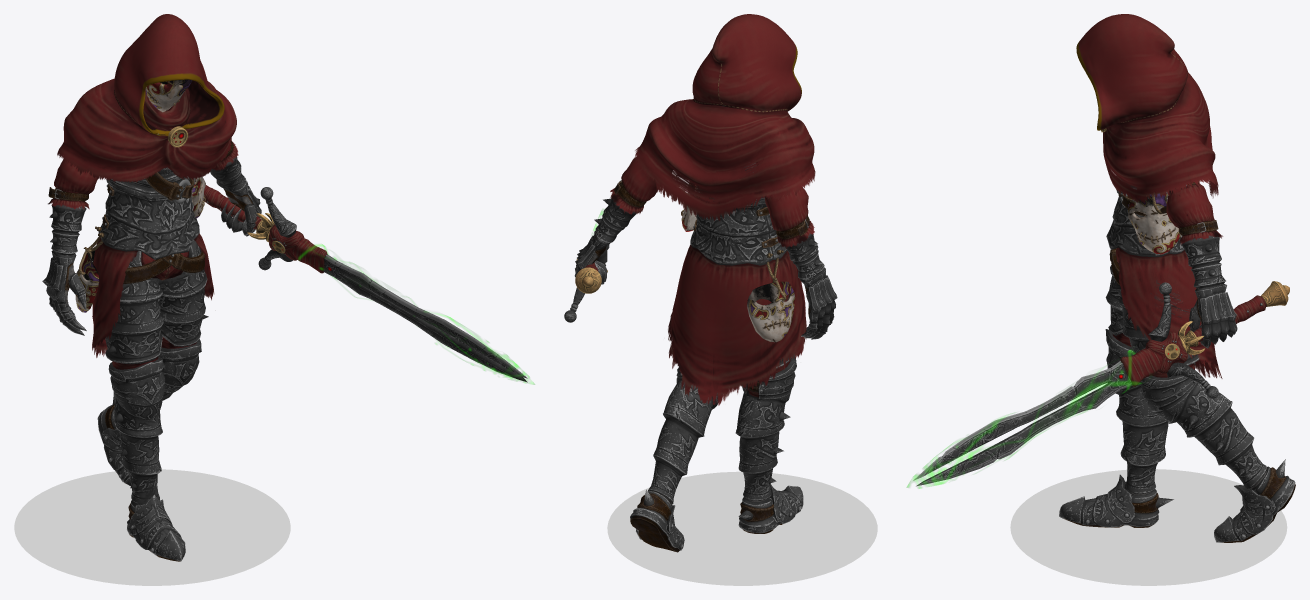
File: jack-of-blades.gltf
3 views of the same model, side by side, from view 1: azimuth 30°, elevation 25°; view 2: azimuth 150°, elevation 25°; view 3: azimuth 270°, elevation 25° (orthographic). The views are drawn at different scales.
Visible parts, largest first — view 1: Object_10, Circle, Object_12, Object_11, Object_6, Object_9, Object_7; view 2: Object_12, Object_10, Circle, Object_11, Object_9, Object_6; view 3: Object_10, Circle, Object_12, Object_6, Object_11, Object_9, Object_7.
Boxes of the visible parts, x1=… form: Object_10: x1=42, y1=137, x2=261, y2=561; Circle: x1=14, y1=469, x2=290, y2=585; Object_12: x1=57, y1=14, x2=236, y2=283; Object_11: x1=79, y1=133, x2=214, y2=357; Object_6: x1=203, y1=185, x2=527, y2=382; Object_9: x1=75, y1=79, x2=205, y2=312; Object_7: x1=298, y1=244, x2=534, y2=384; Object_12: x1=634, y1=14, x2=815, y2=220; Object_10: x1=574, y1=156, x2=837, y2=552; Circle: x1=607, y1=471, x2=877, y2=585; Object_11: x1=668, y1=105, x2=806, y2=405; Object_9: x1=681, y1=183, x2=795, y2=342; Object_6: x1=564, y1=245, x2=609, y2=322; Object_10: x1=1059, y1=180, x2=1295, y2=542; Circle: x1=1010, y1=469, x2=1287, y2=585; Object_12: x1=1076, y1=14, x2=1218, y2=284; Object_6: x1=913, y1=281, x2=1289, y2=486; Object_11: x1=1106, y1=176, x2=1222, y2=378; Object_9: x1=1101, y1=128, x2=1181, y2=254; Object_7: x1=906, y1=349, x2=1141, y2=488.
Size of the model in its own units: 1.56 by 2.02 by 1.38.
Materials: 6 (6 with a texture image).
